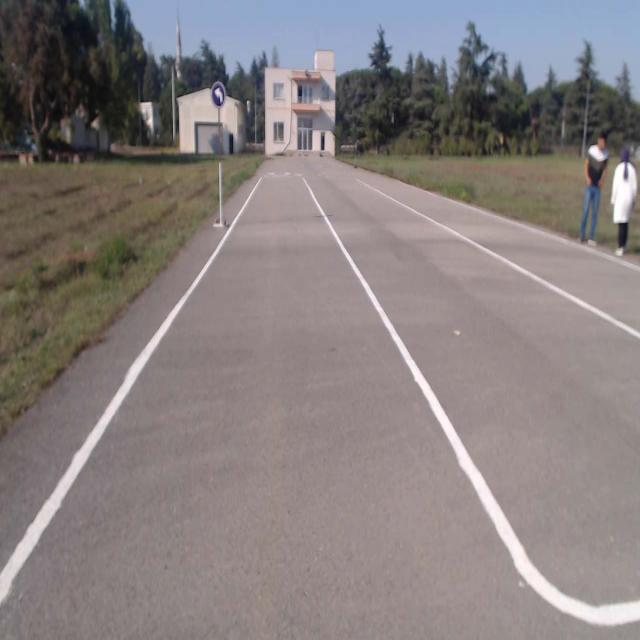sol: (211, 81, 225, 108)
